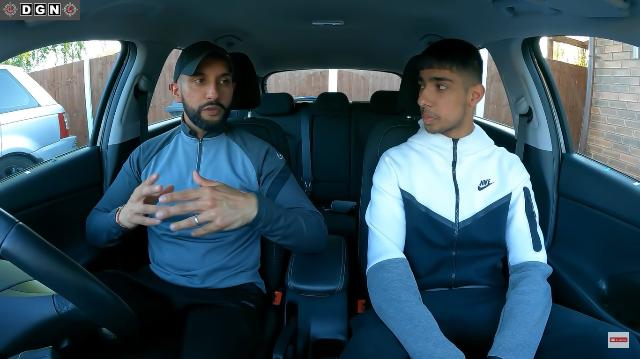no seatbelt: (382, 99, 550, 303), (132, 131, 316, 271)
seatbelt: (448, 138, 459, 288)
